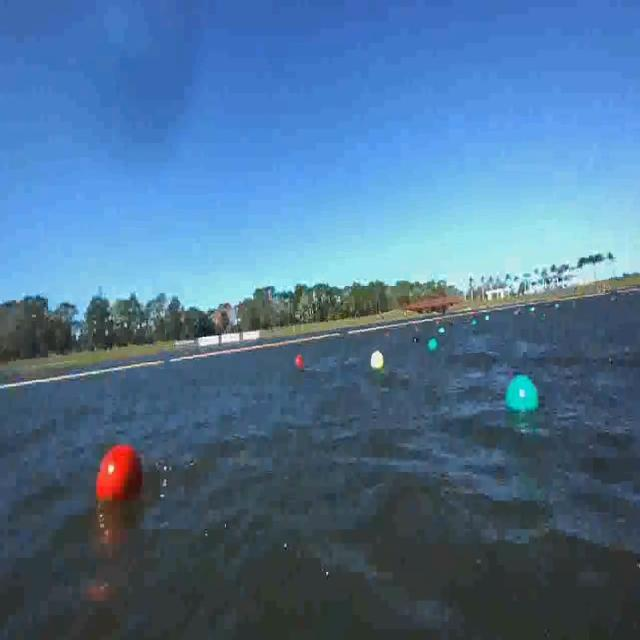green-buoy: (506, 376, 542, 418), (428, 338, 438, 354)
red-buoy: (96, 443, 148, 506), (293, 348, 305, 372)
yellow-buoy: (372, 351, 386, 369)
